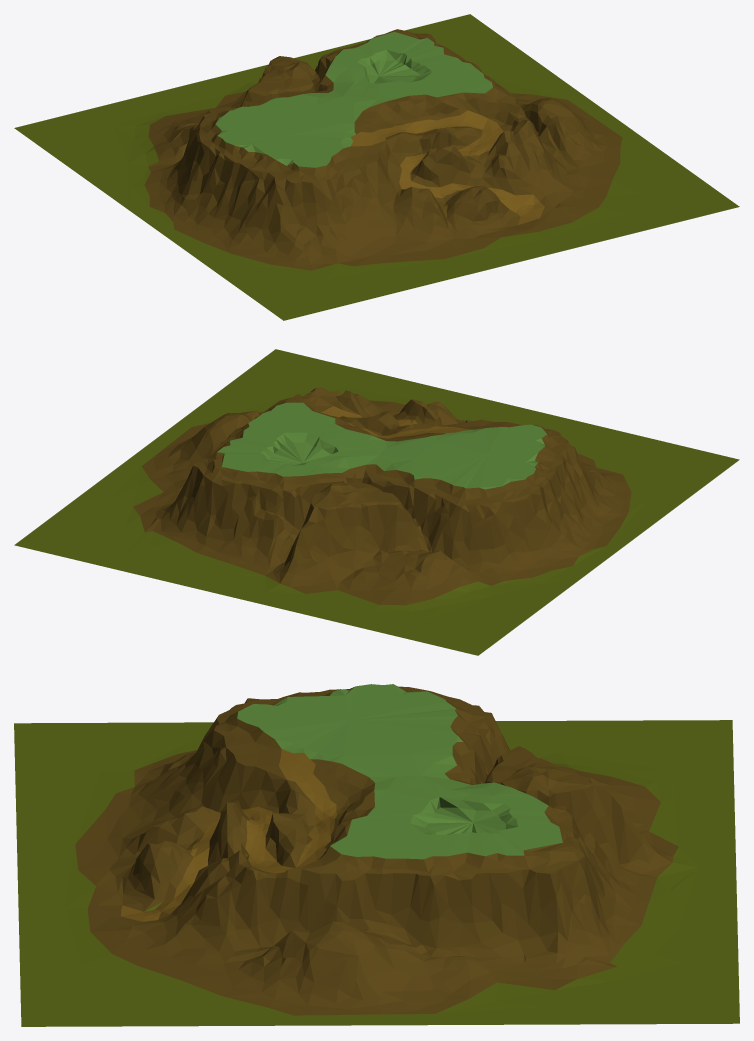
File: FINALMOUNTAIN.fbx
3 renders of one model, top to bottom at view 1: azimuth 30°, elevation 25°; view 2: azimuth 150°, elevation 25°; view 3: azimuth 270°, elevation 25°, orthographic. The views are drawn at different scales.
Parts seen in each view (by area): view 1: FinalMountain; view 2: FinalMountain; view 3: FinalMountain.
Boxes of the visible parts, x1=… form: FinalMountain: x1=14, y1=14, x2=739, y2=320; FinalMountain: x1=14, y1=349, x2=739, y2=655; FinalMountain: x1=14, y1=684, x2=739, y2=1026.
Bounding box in the file's own units: 19998 × 2708 × 19998.
